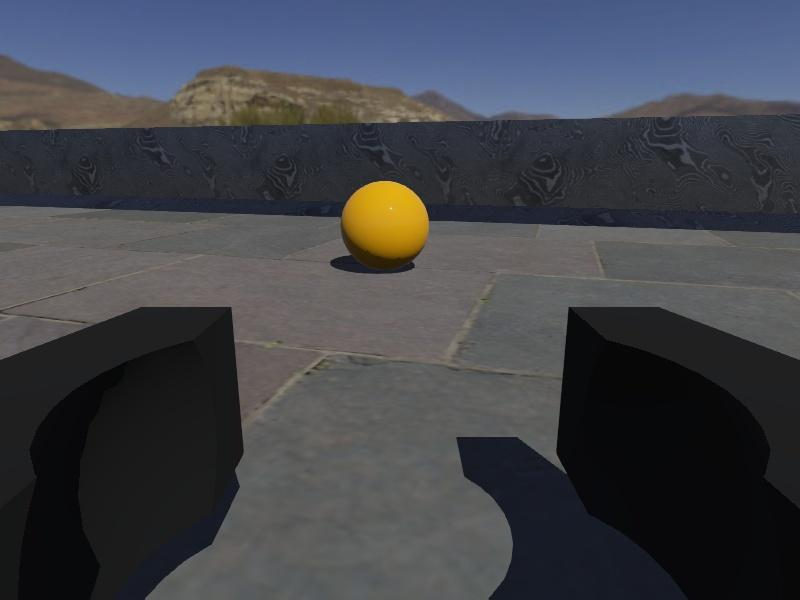orange ball: (339, 180, 431, 273)
